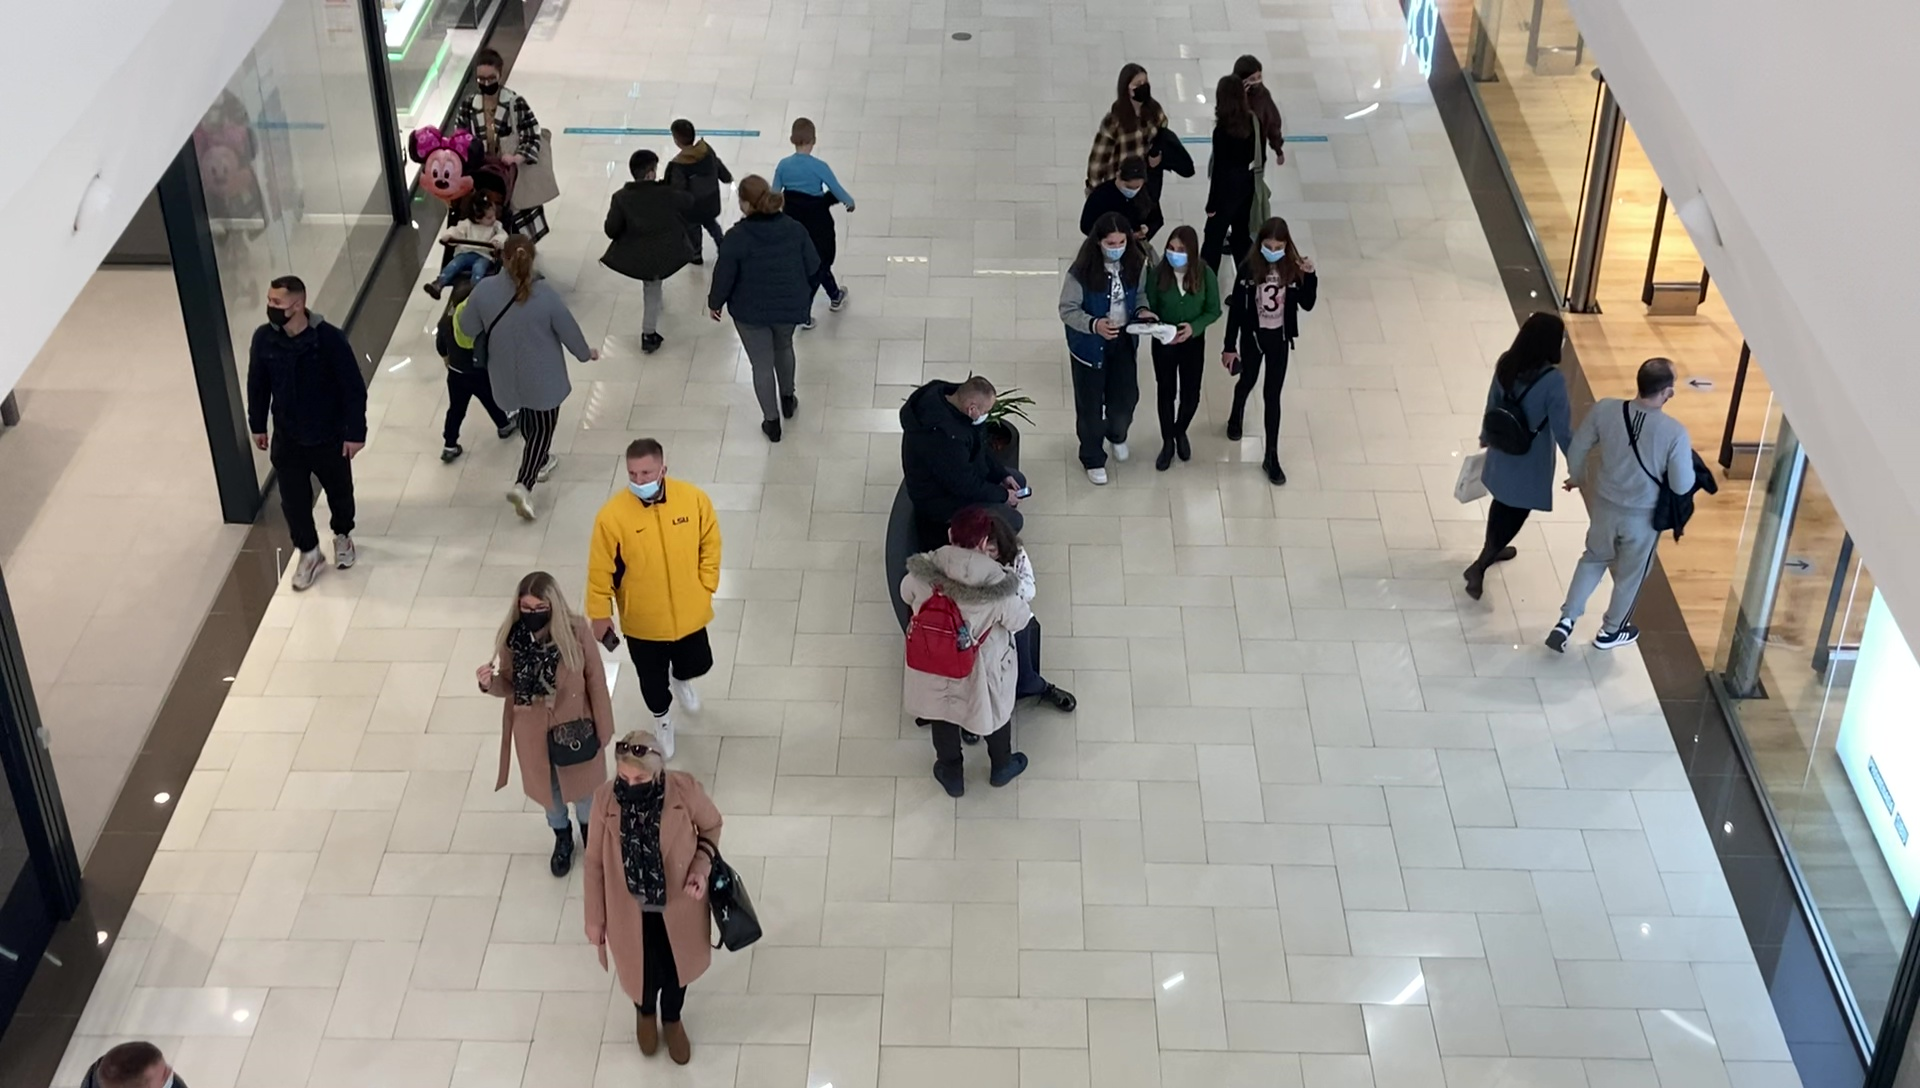person: (584, 736, 724, 1066), (1545, 358, 1694, 654), (586, 438, 723, 759), (476, 572, 616, 873), (247, 276, 370, 594), (461, 236, 600, 516), (1464, 310, 1574, 600), (1219, 217, 1321, 488), (1058, 213, 1153, 485), (601, 151, 696, 351), (1149, 225, 1219, 476), (661, 119, 731, 264), (1089, 64, 1177, 169)
